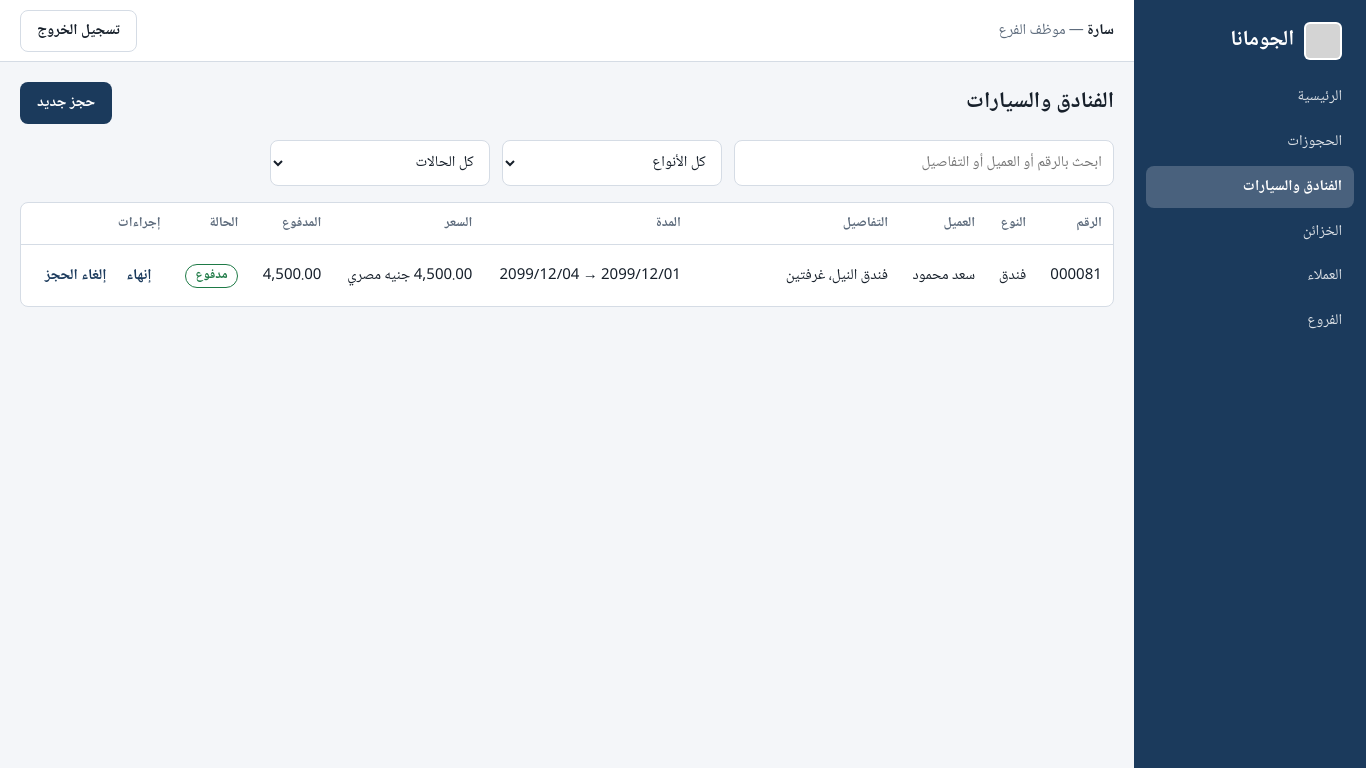
Test case: hotel and car bookings › completes a paid booking and cancels one with a reason
This screenshot has width=1366, height=768.
Click the button "إنهاء" at coordinates (139, 276), box [117,255,161,297]
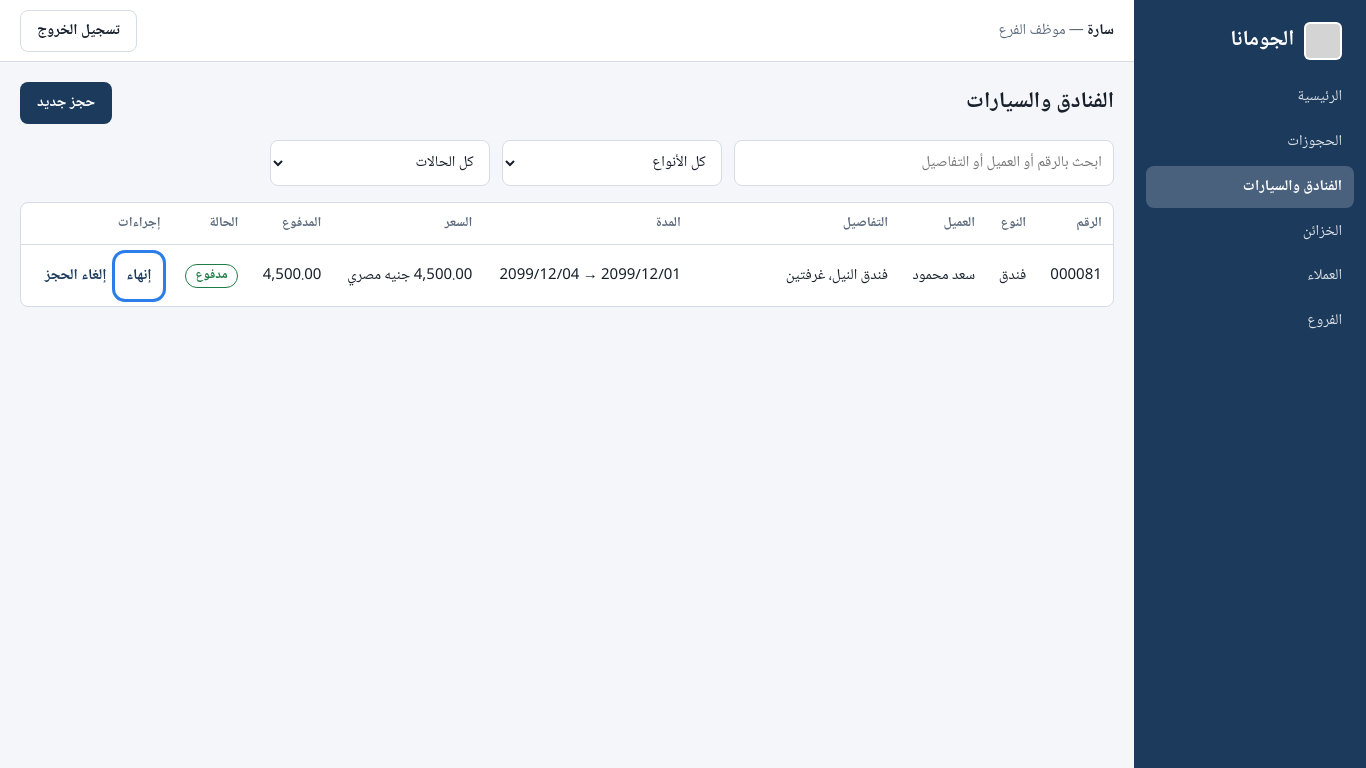
Click the button "إلغاء الحجز" at coordinates (76, 276), box [36,255,116,297]
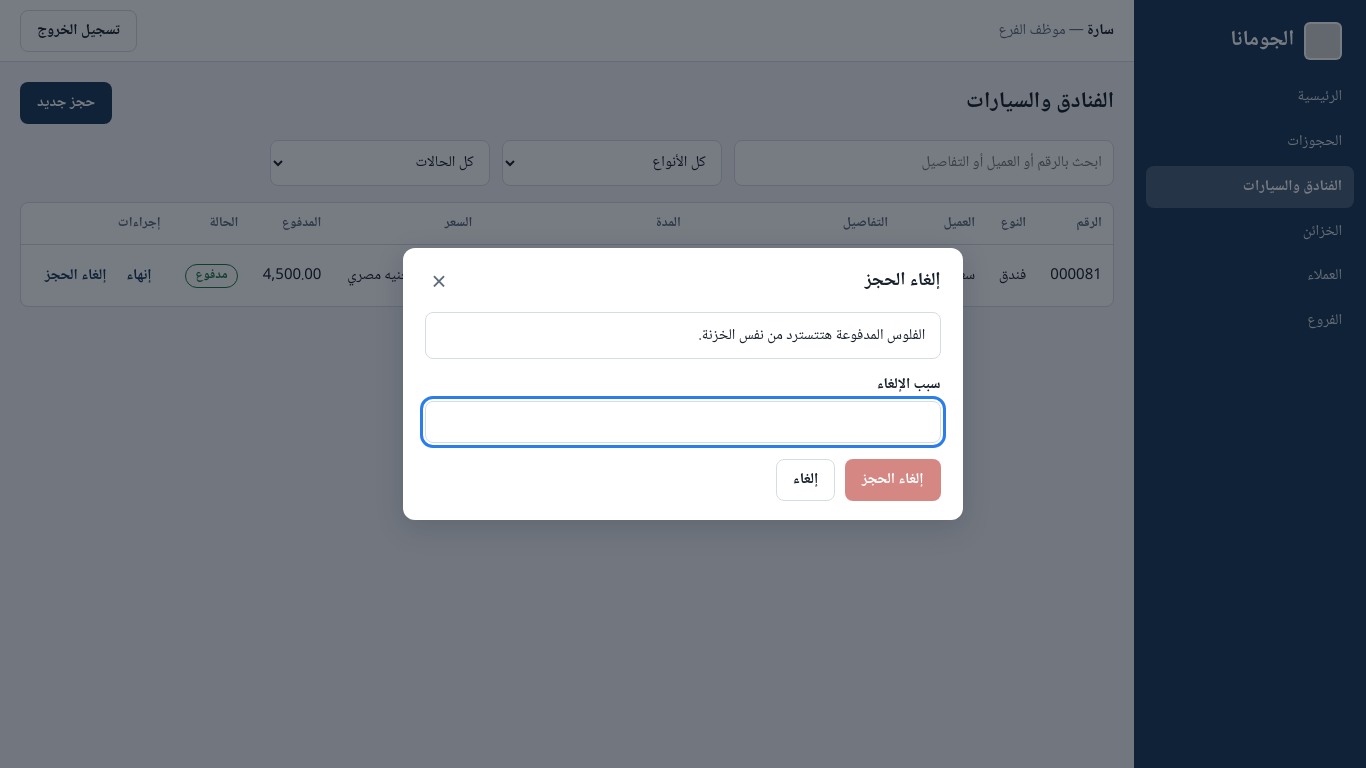
Type "العميل لغى" into the field labelled "سبب الإلغاء" at coordinates (683, 422), box [425,401,941,443]
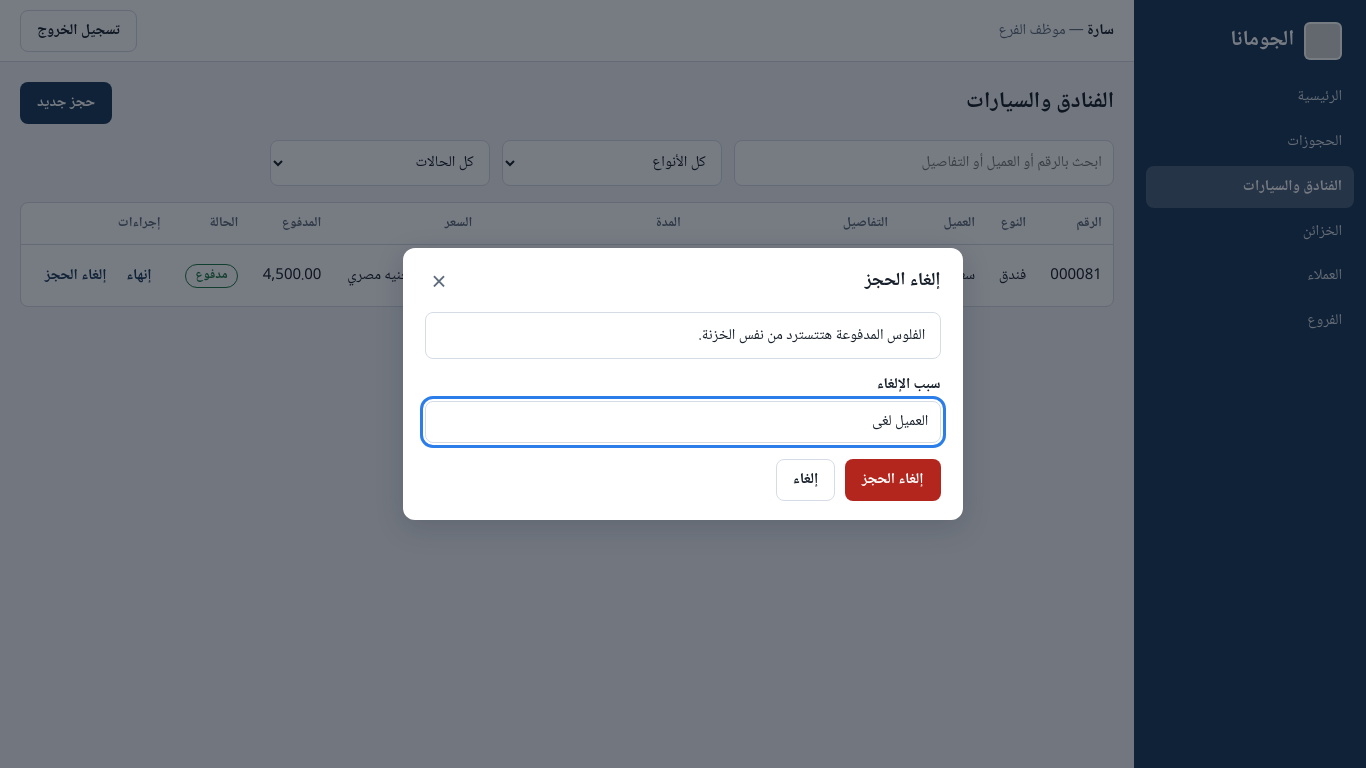
Click the button "إلغاء الحجز" at coordinates (893, 480), box [845,459,941,501]
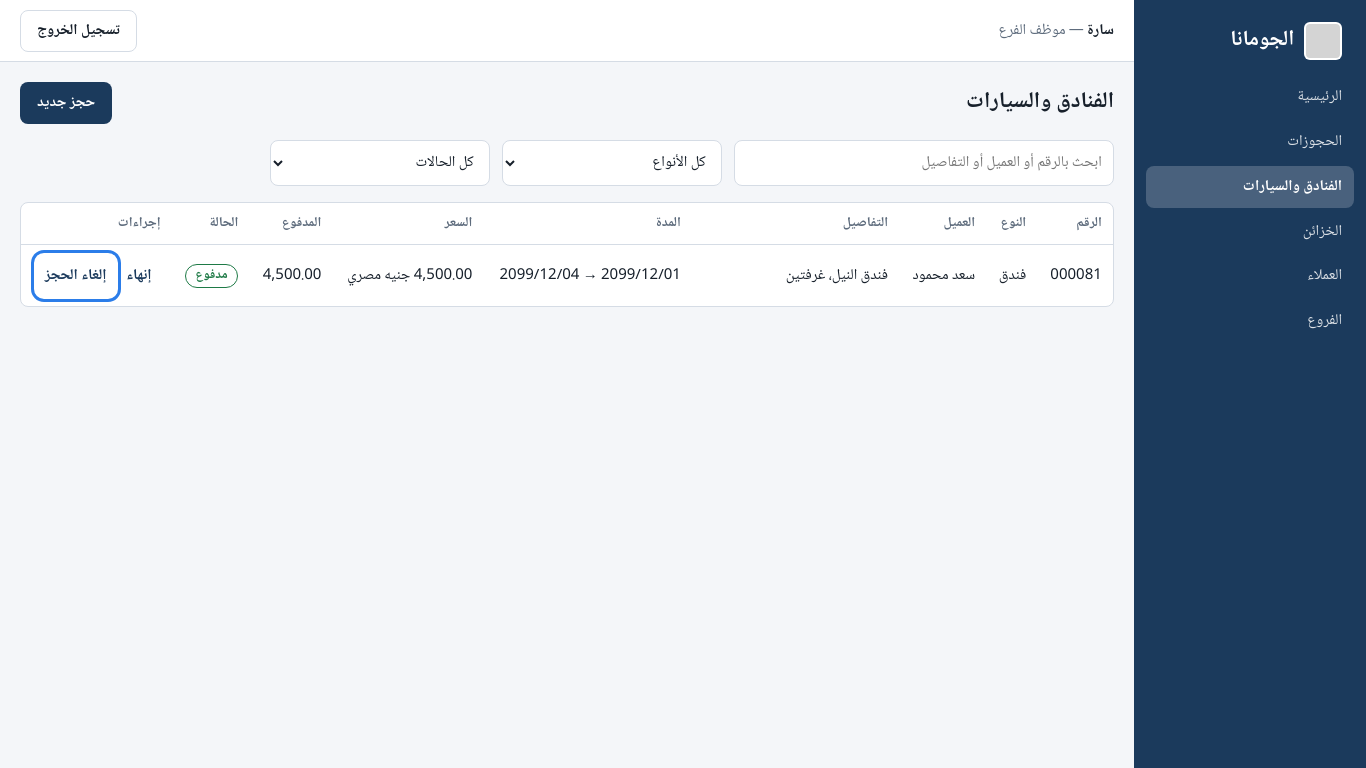
Expected: the dialog is gone
